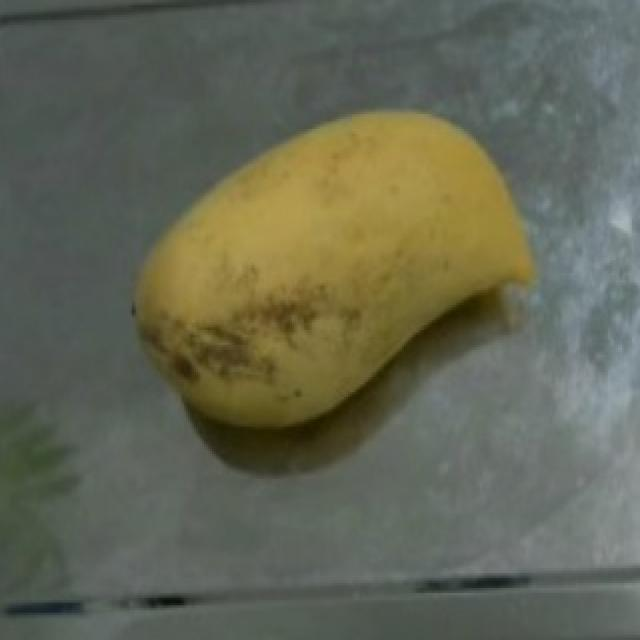fruit: (108, 84, 552, 457)
